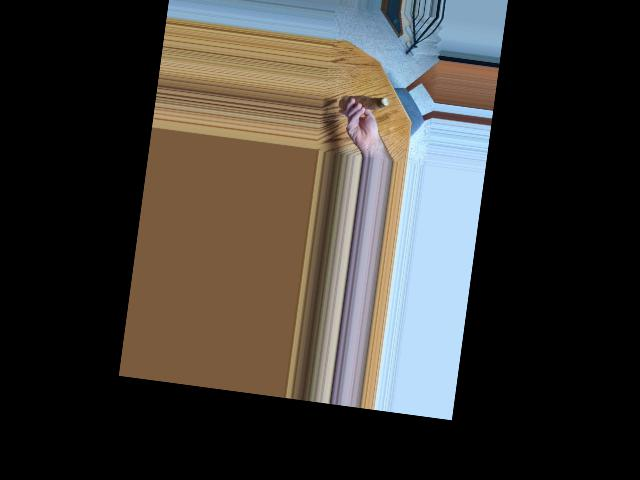sweet_potato: (338, 92, 393, 114)
